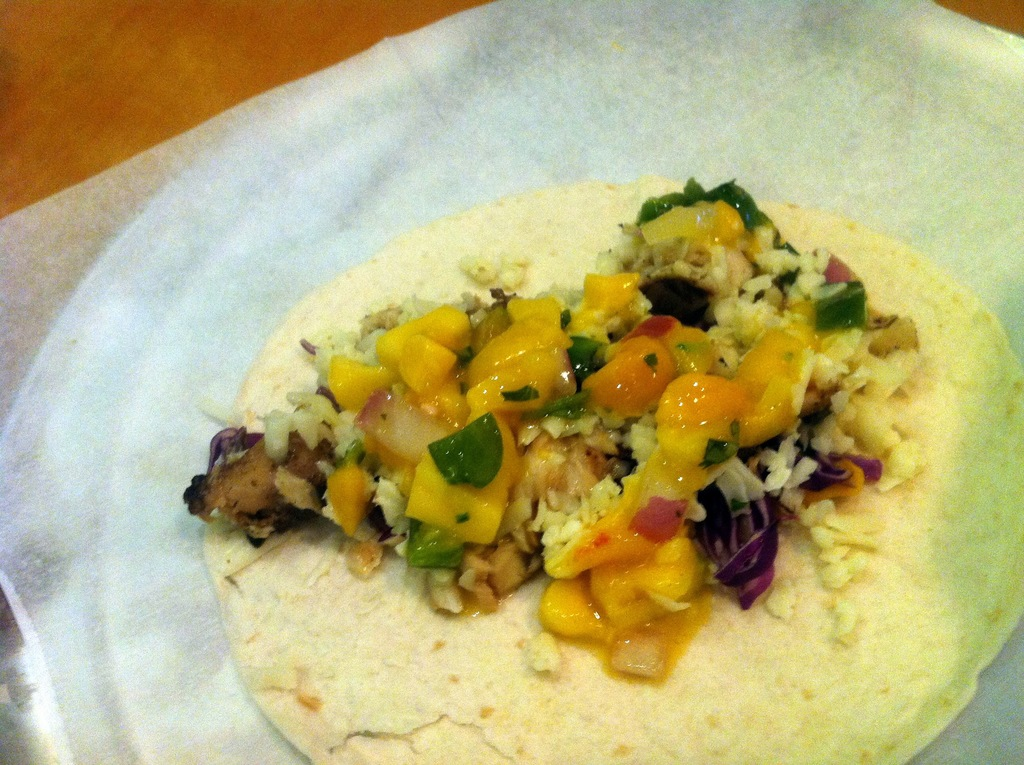taco: (182, 172, 1023, 764)
